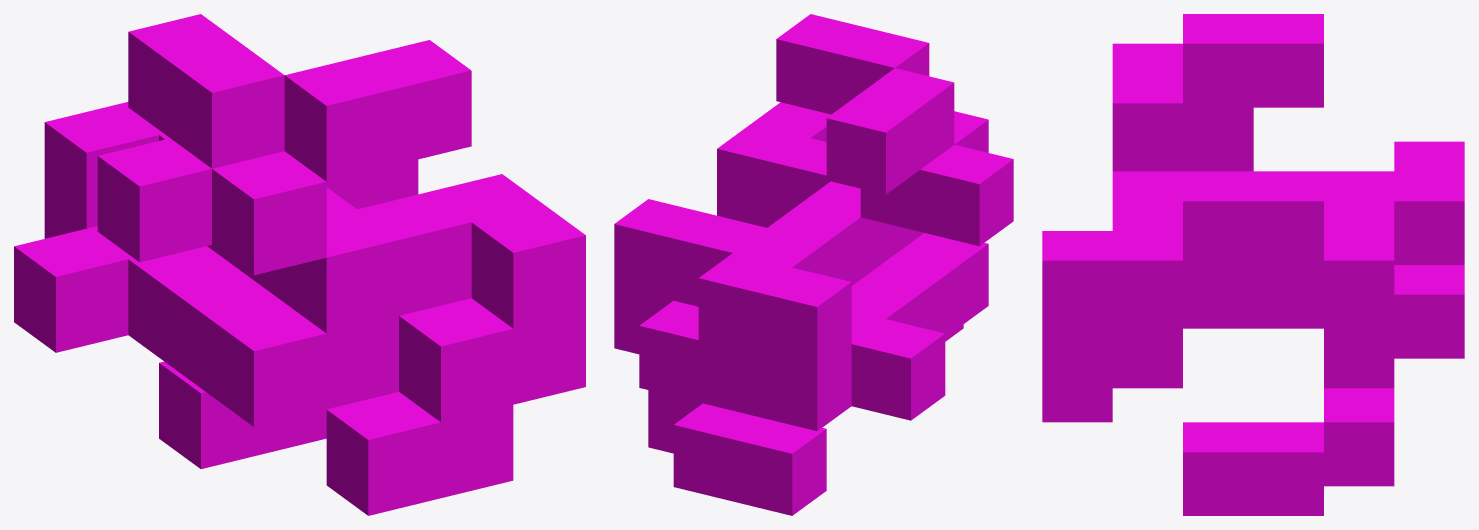
The model's file is luz-6c.obj.
3 views of the same model, side by side, from view 1: azimuth 30°, elevation 25°; view 2: azimuth 150°, elevation 25°; view 3: azimuth 270°, elevation 25° (orthographic). The views are drawn at different scales.
Size of the model in its own units: 0.5 by 0.6 by 0.6.
1 material, 1 textured.
